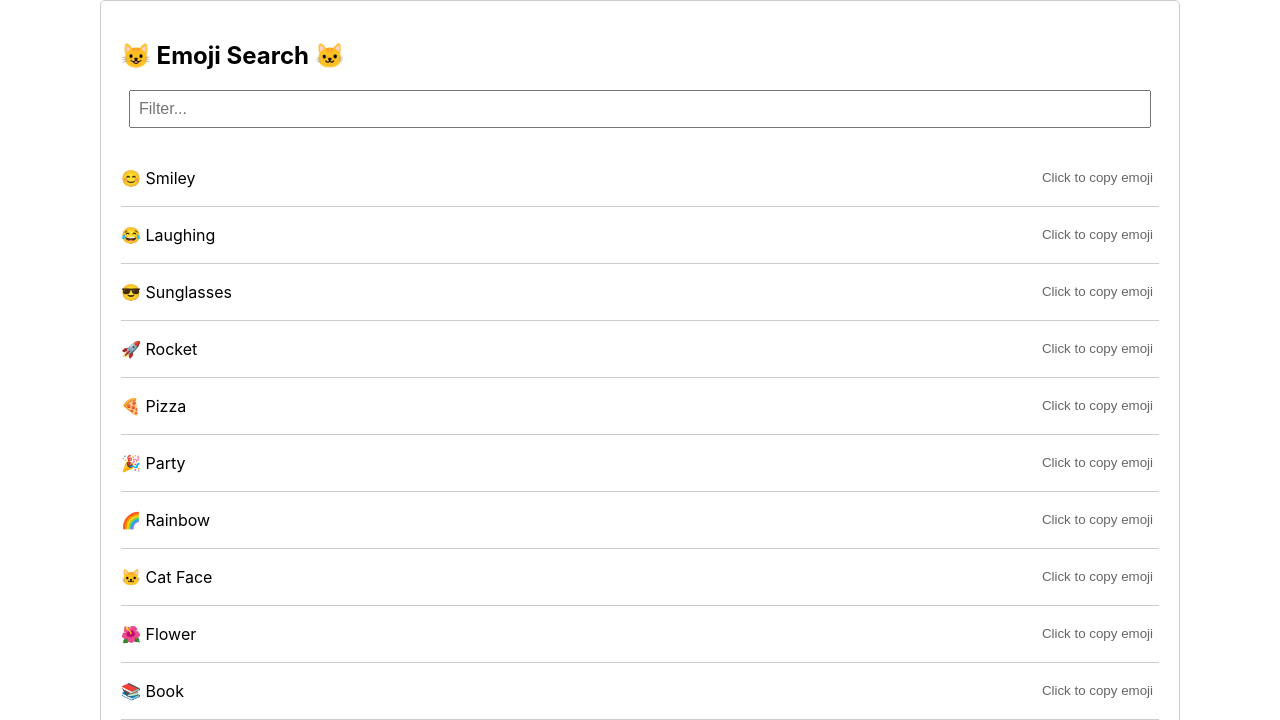
filters and renders emoji list
The image size is (1280, 720).
# Filtreleme için inputa değer gir
Type "Rocket" into the field with placeholder "Filter..." at (640, 109), box [129,90,1151,128]
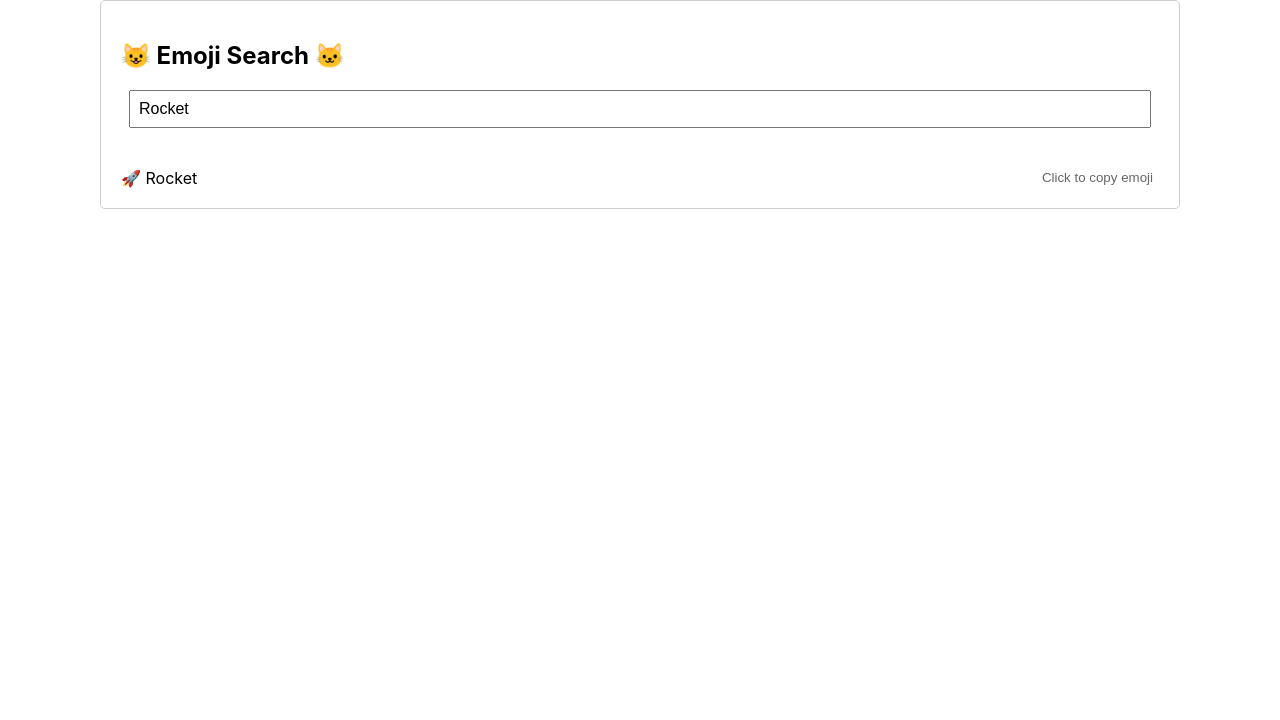
Expected: the text "🚀 Rocket" is shown, [121,168,197,188]
